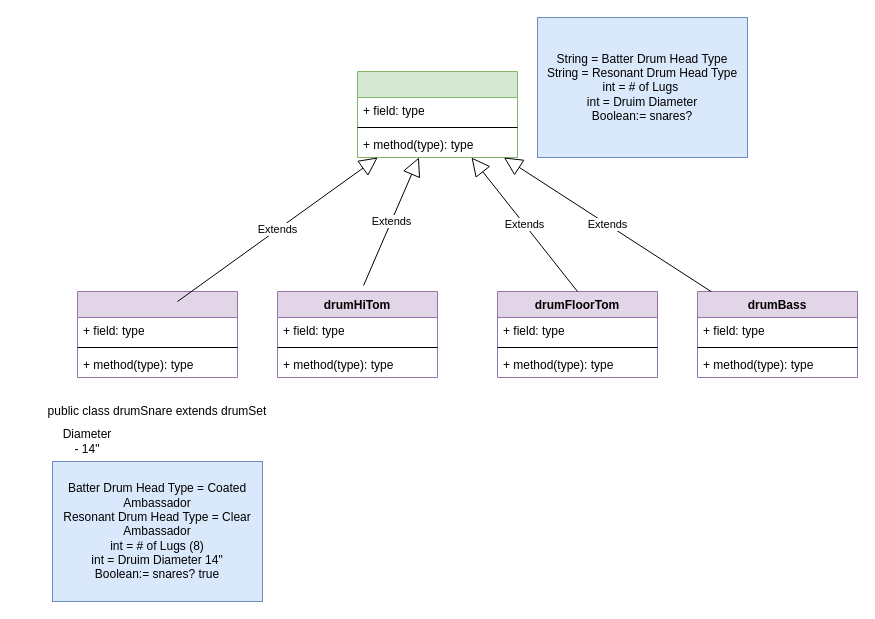
Some shapes in this 875 by 619 pixel diagram are drawn without their labels. Each missing label, with the box of its shape:
drumSet: (356, 70, 518, 158)
drumSnare: (76, 290, 238, 378)
